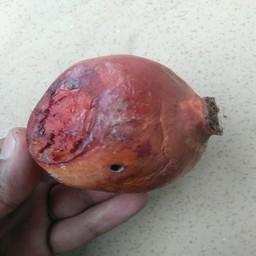Bad_pomegranate: (17, 48, 219, 194)
